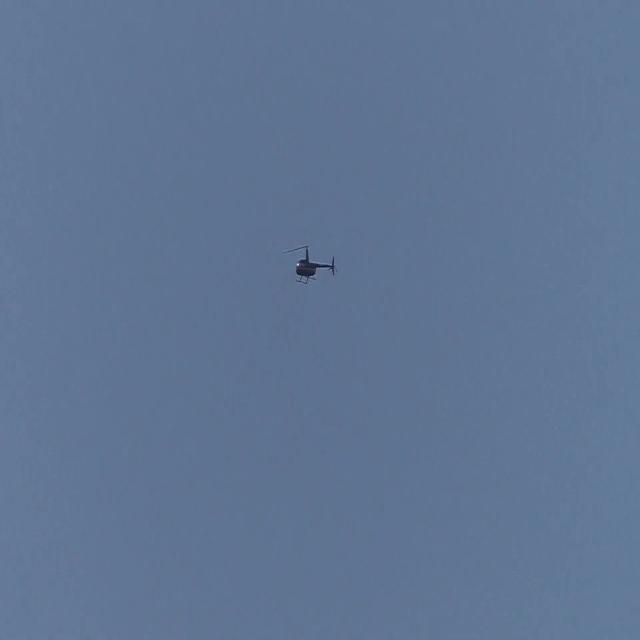CIV_HELO: (296, 244, 336, 286)
